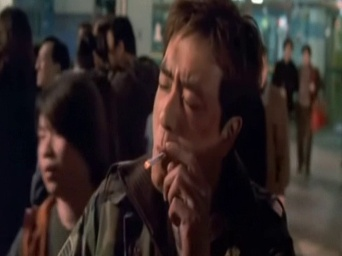smoke: (142, 152, 166, 170)
